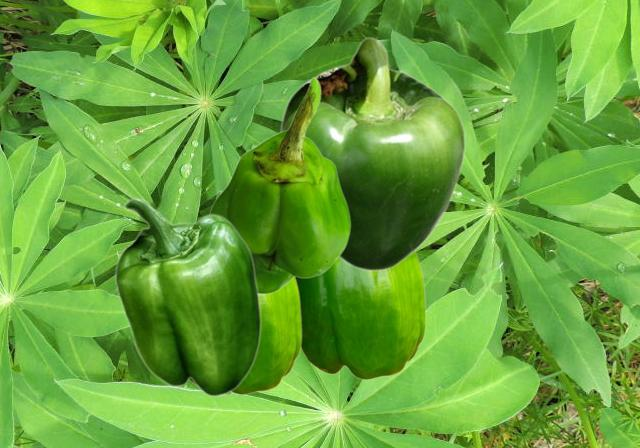bell_pepper: (278, 36, 465, 271), (209, 76, 350, 293), (114, 197, 261, 396), (189, 190, 301, 394), (297, 252, 425, 379)
